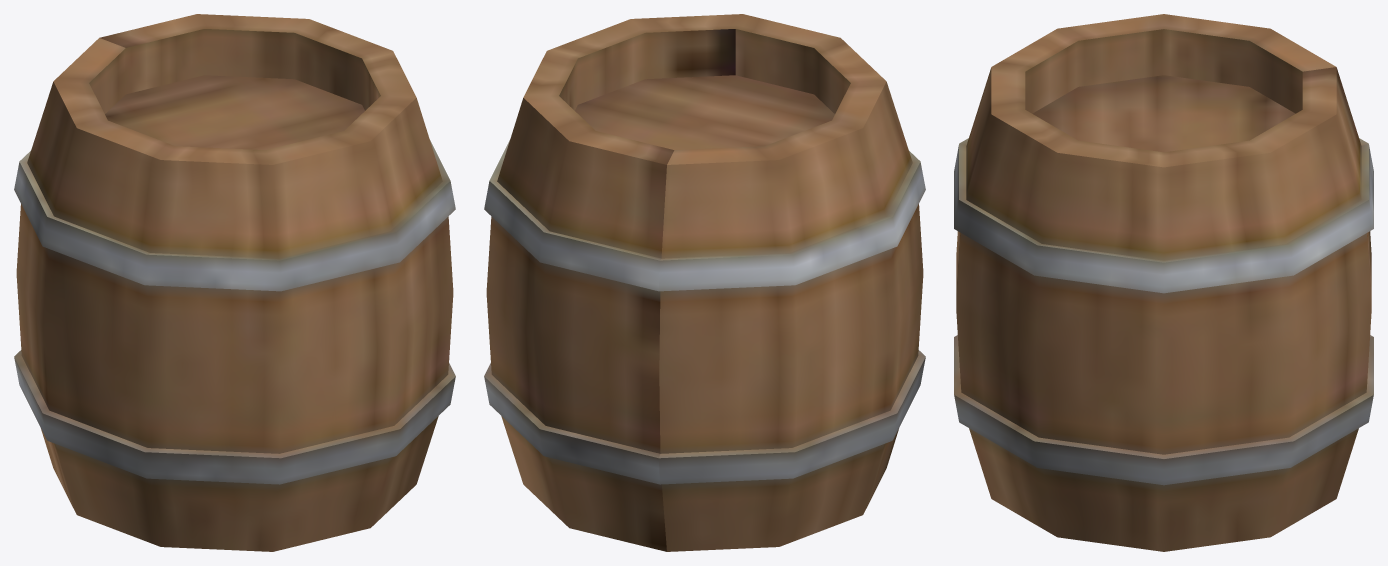
3 views of the same model, side by side, from view 1: azimuth 30°, elevation 25°; view 2: azimuth 150°, elevation 25°; view 3: azimuth 270°, elevation 25° (orthographic).
Parts seen in each view (by area): view 1: SM_mutong; view 2: SM_mutong; view 3: SM_mutong.
Part boxes in pixels (x1,y1,x2,y2): SM_mutong: [14, 14, 455, 551]; SM_mutong: [484, 14, 925, 551]; SM_mutong: [954, 14, 1373, 551].
Bounding box in the file's own units: 0.8324 × 0.8 × 0.7916.
Materials: 1 (1 with a texture image).
